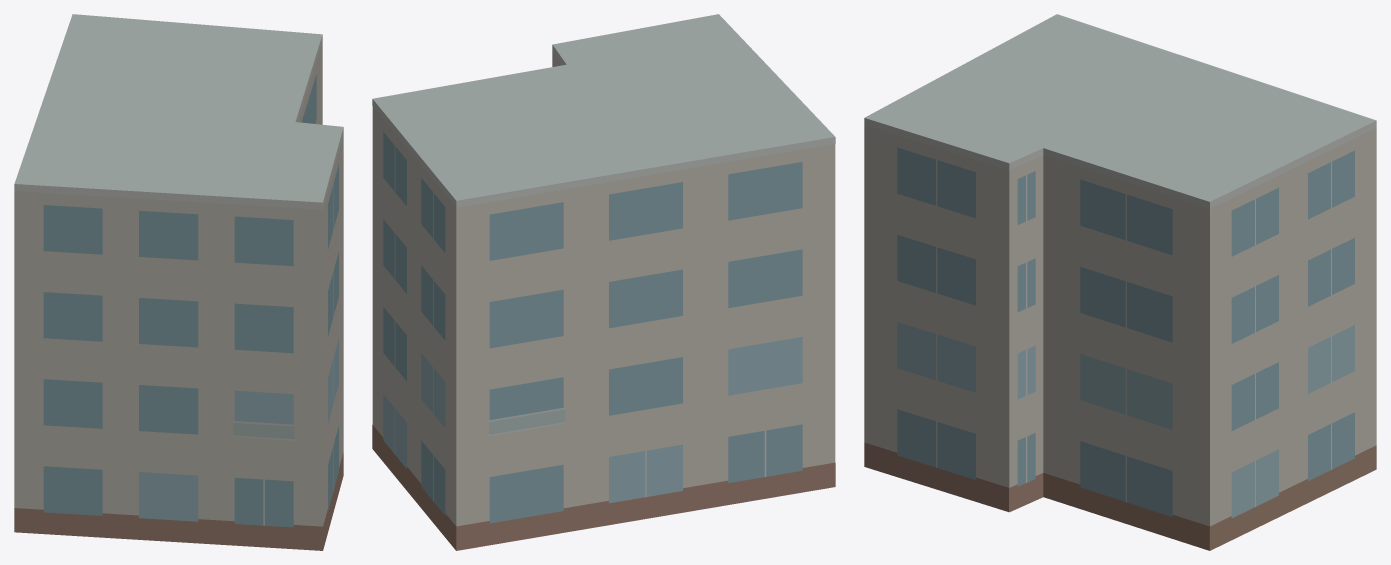
Rendered from survey-upis-32843974.glb.
3 views of the same model, side by side, from view 1: azimuth 30°, elevation 25°; view 2: azimuth 150°, elevation 25°; view 3: azimuth 270°, elevation 25° (orthographic).
Parts seen in each view (by area): view 1: survey-upis-32843974.tmp; view 2: survey-upis-32843974.tmp; view 3: survey-upis-32843974.tmp.
Part boxes in pixels (box(x1,y1,x2,y2)): survey-upis-32843974.tmp: box(14, 14, 343, 550); survey-upis-32843974.tmp: box(372, 14, 835, 550); survey-upis-32843974.tmp: box(864, 14, 1376, 550).
Size of the model in its own units: 14 by 12.11 by 16.12.
